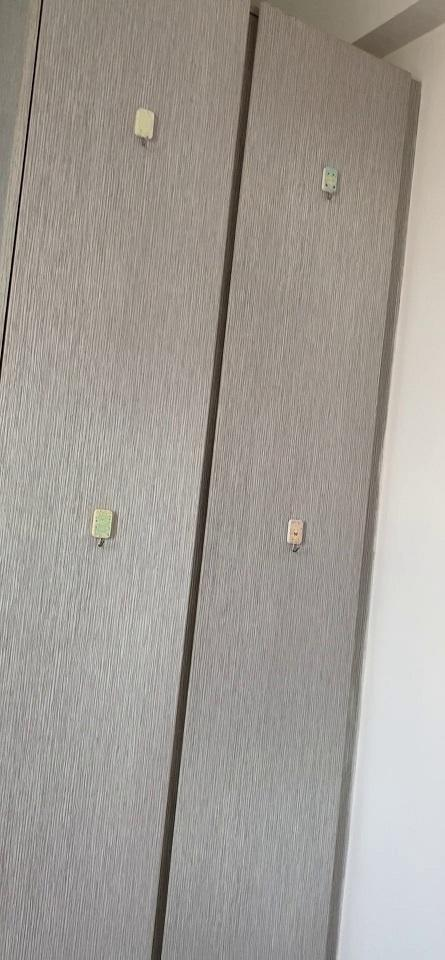Armario: (10, 8, 389, 954)
